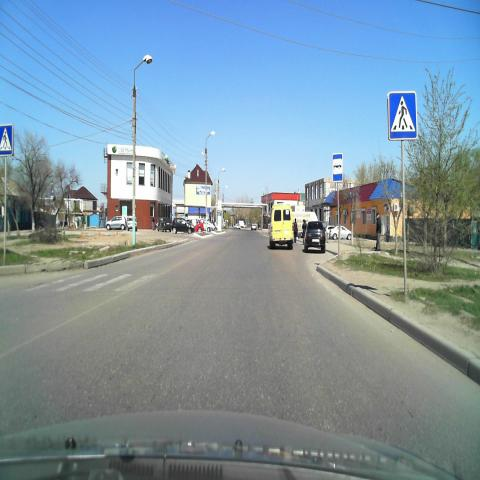5_16: (332, 153, 342, 182)
5_19_1: (387, 90, 417, 140), (0, 125, 13, 155)
